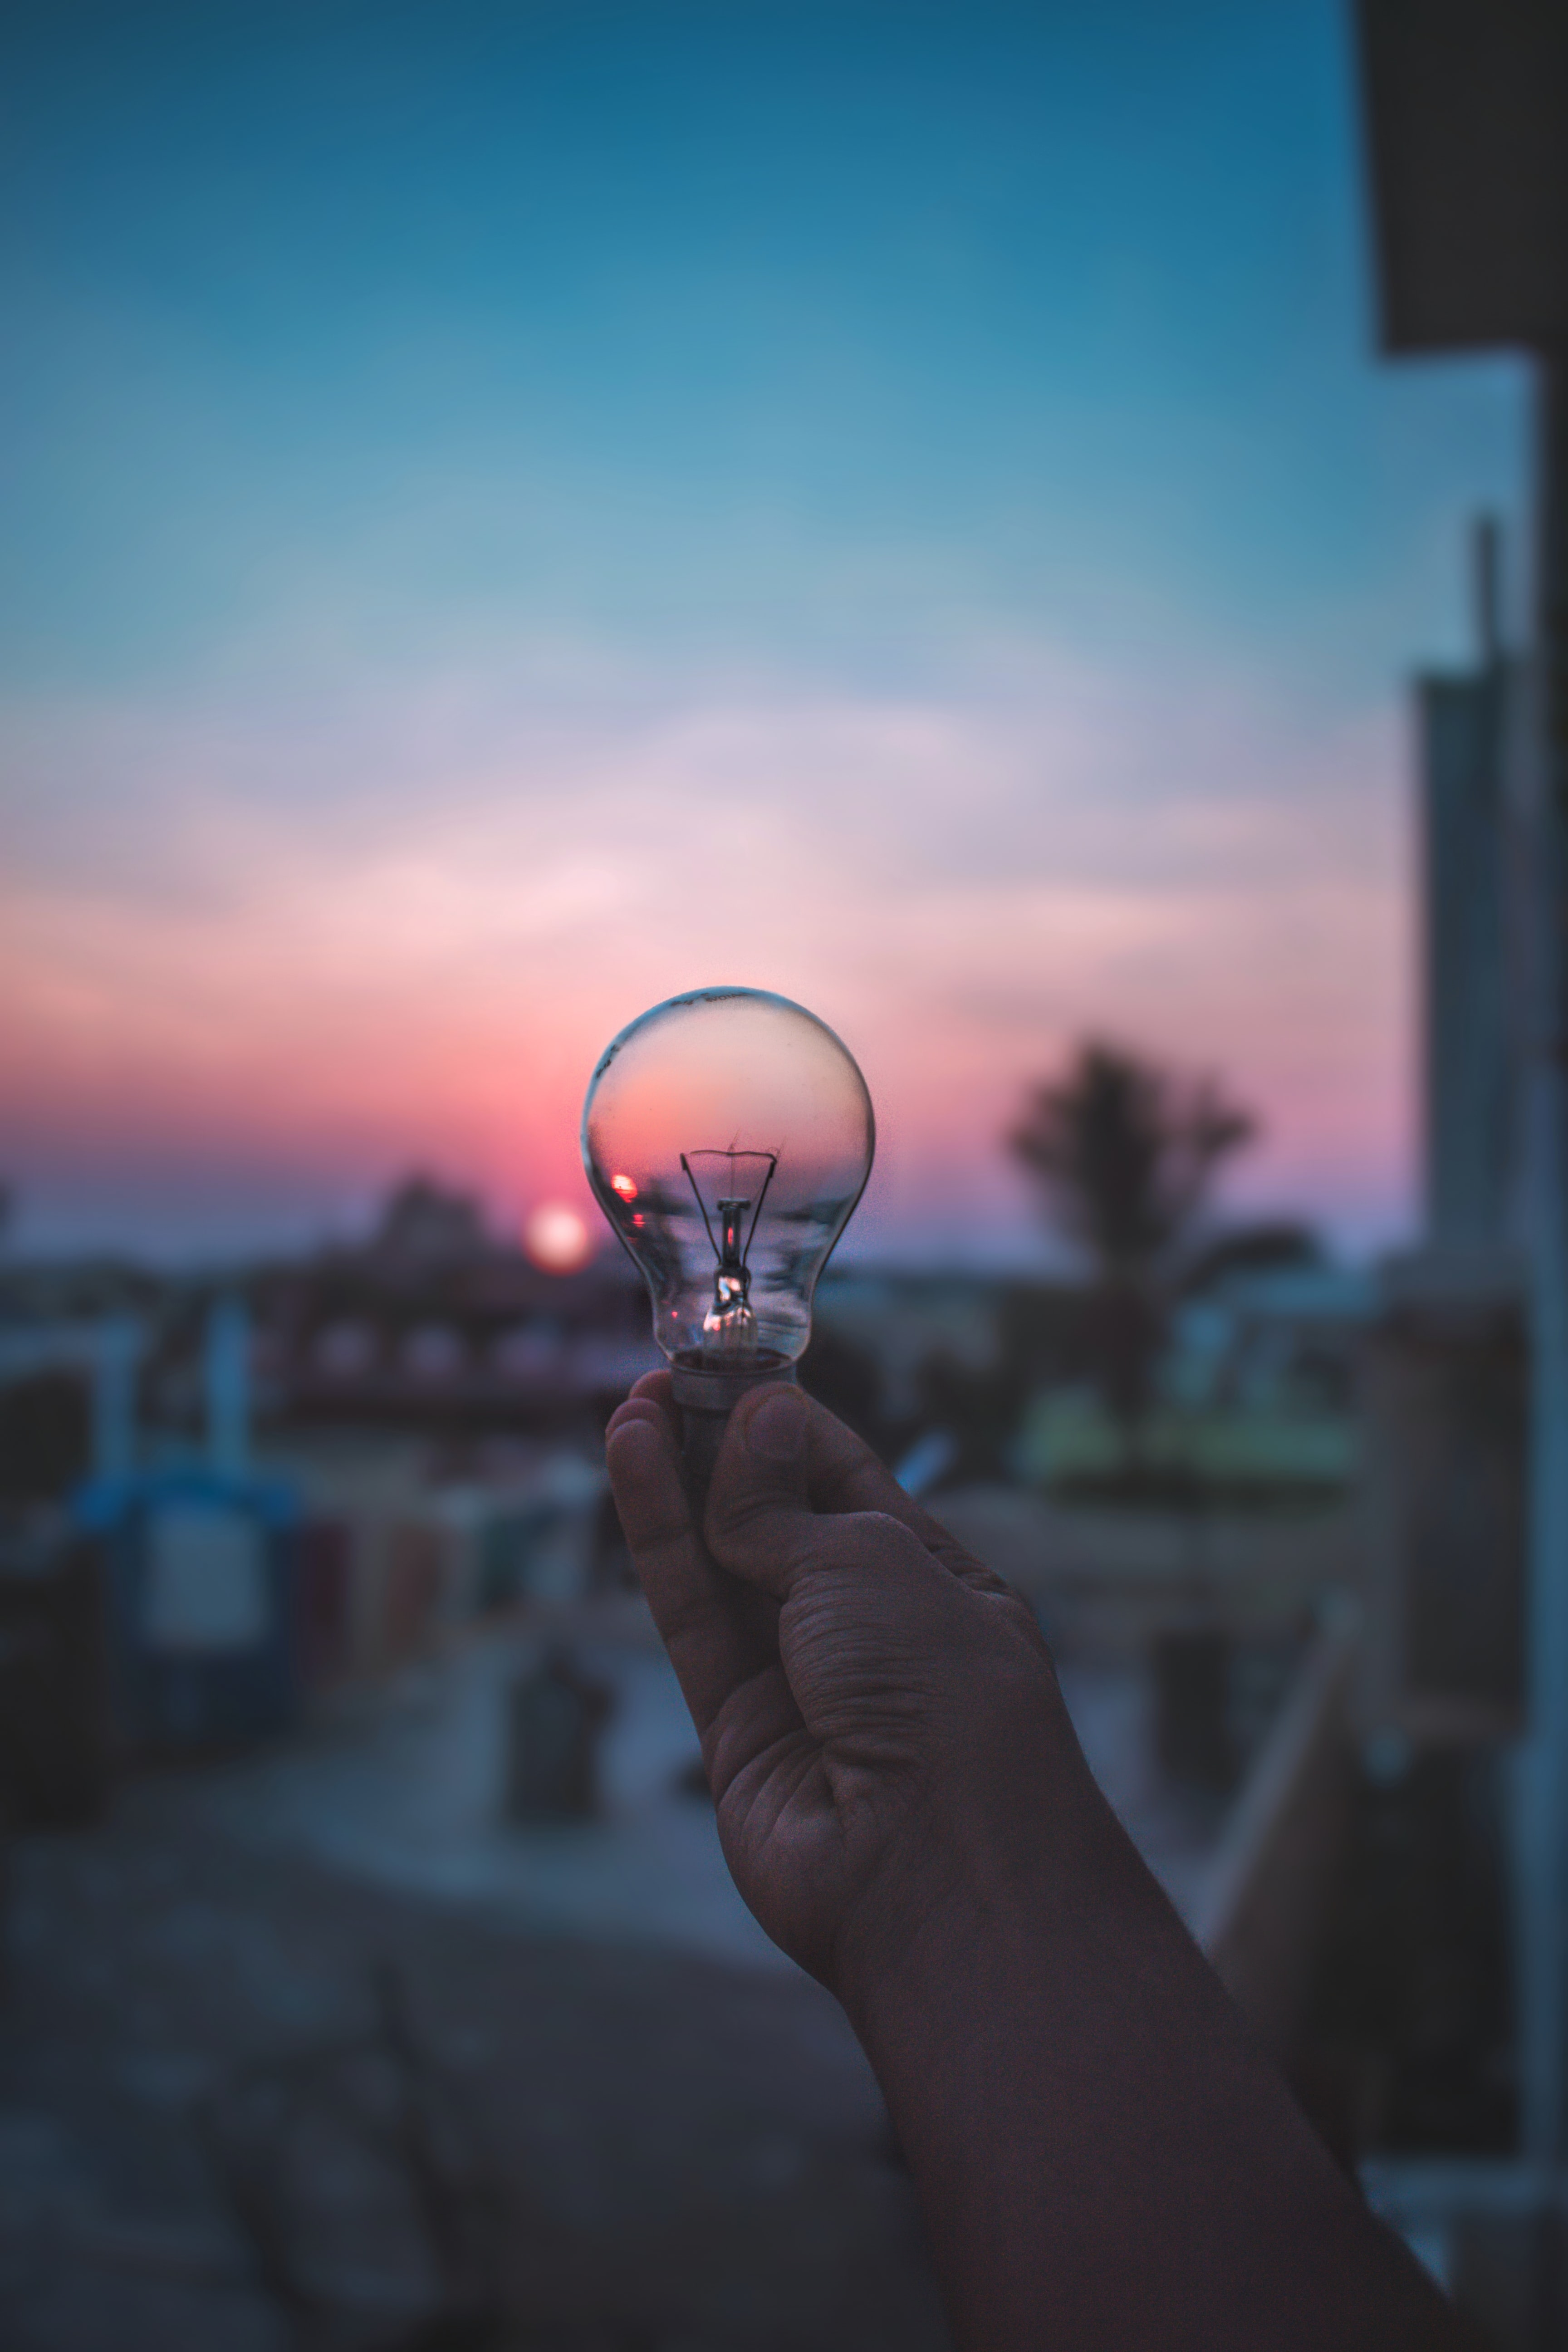bulb: (474, 955, 992, 1465)
